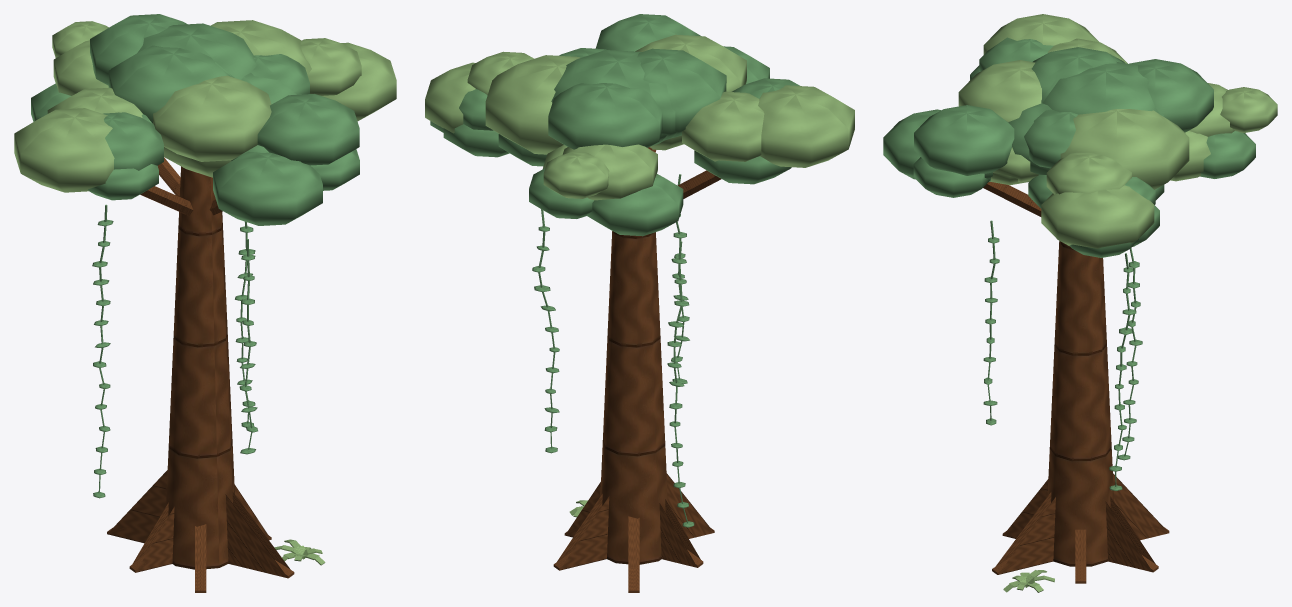
File: canopy_02.glb
3 renders of one model, left to right at view 1: azimuth 30°, elevation 25°; view 2: azimuth 150°, elevation 25°; view 3: azimuth 270°, elevation 25°, orthographic. The views are drawn at different scales.
Visible parts, largest first — view 1: buttress-root-tree_2, buttress-root-tree_0, buttress-root-tree_1; view 2: buttress-root-tree_2, buttress-root-tree_1, buttress-root-tree_0; view 3: buttress-root-tree_2, buttress-root-tree_1, buttress-root-tree_0.
Boxes of the visible parts, bbox=[...] form: buttress-root-tree_2: bbox=[31, 14, 359, 498]; buttress-root-tree_0: bbox=[107, 157, 294, 592]; buttress-root-tree_1: bbox=[14, 20, 396, 565]; buttress-root-tree_2: bbox=[430, 14, 799, 527]; buttress-root-tree_1: bbox=[425, 34, 854, 517]; buttress-root-tree_0: bbox=[553, 147, 721, 592]; buttress-root-tree_2: bbox=[883, 37, 1255, 490]; buttress-root-tree_1: bbox=[958, 14, 1277, 592]; buttress-root-tree_0: bbox=[983, 182, 1169, 583].
Size of the model in its own units: 8.79 by 10.73 by 7.95.
Materials: 3 (3 with a texture image).
